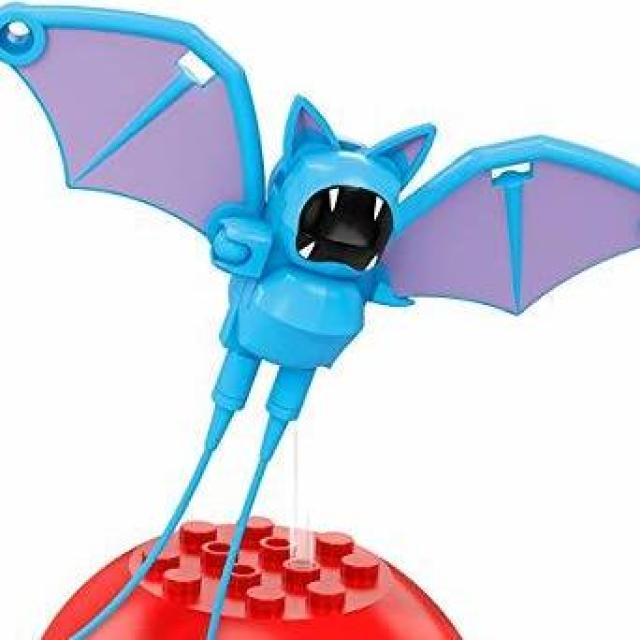Zubat: (110, 61, 528, 511)
